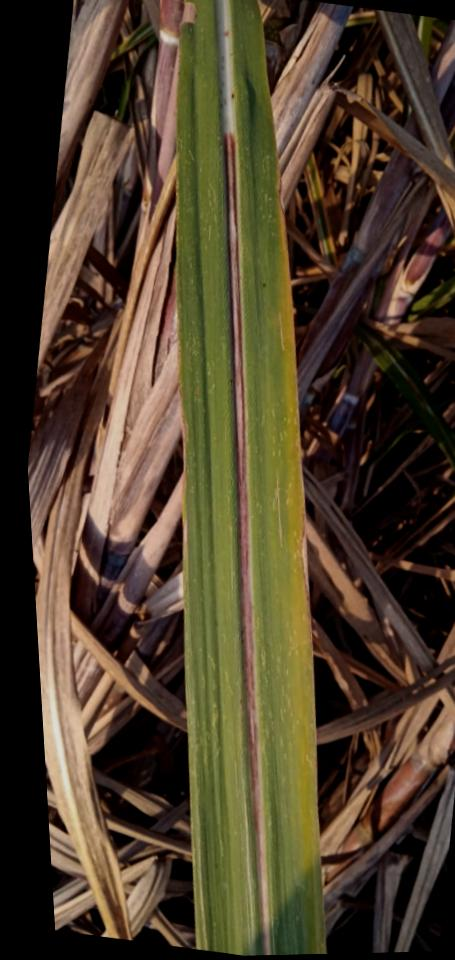RedRot: (223, 132, 265, 881)
Rust: (212, 26, 237, 120)
